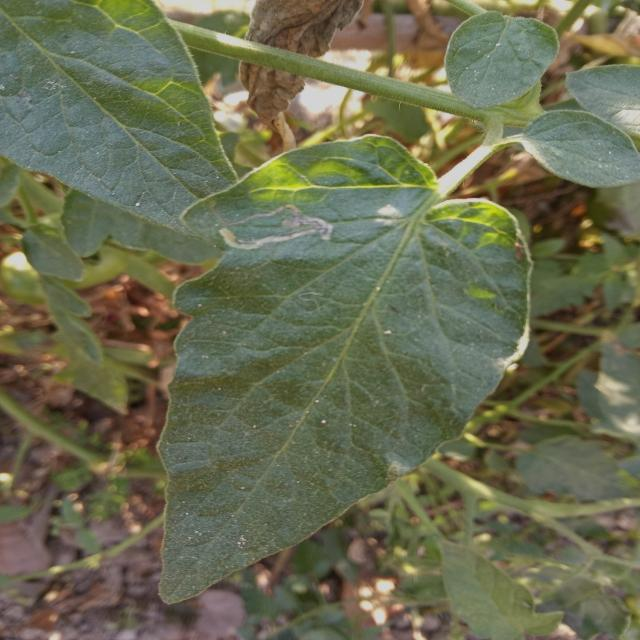Tuta absoluta: (215, 200, 334, 253)
